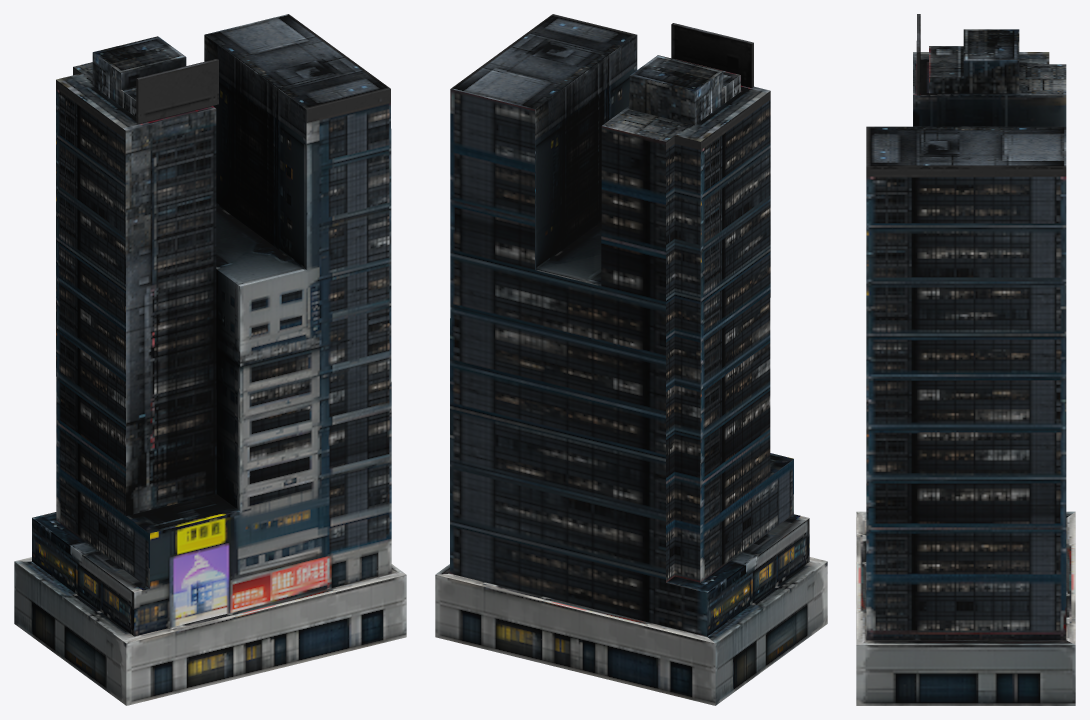
File: CP_Skyscraper_09.fbx
The picture shows the model from 3 angles, left to right: view 1: azimuth 30°, elevation 25°; view 2: azimuth 150°, elevation 25°; view 3: azimuth 270°, elevation 25°; orthographic projection. The views are drawn at different scales.
Parts seen in each view (by area): view 1: CP_Skyscraper_09; view 2: CP_Skyscraper_09; view 3: CP_Skyscraper_09.
Boxes of the visible parts, left/top/right/bottom form: CP_Skyscraper_09: left=14, top=14, right=406, bottom=705; CP_Skyscraper_09: left=435, top=14, right=827, bottom=705; CP_Skyscraper_09: left=856, top=14, right=1075, bottom=705.
Size of the model in its own units: 2814 by 5692 by 1952.
